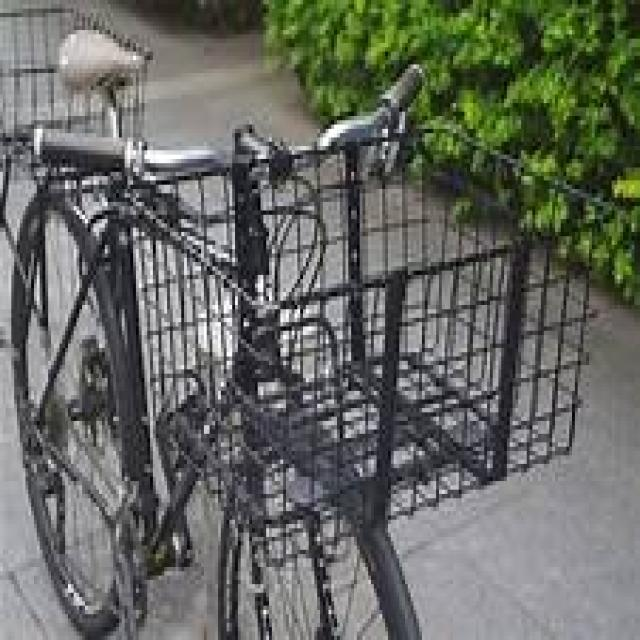basket: (121, 124, 610, 572)
